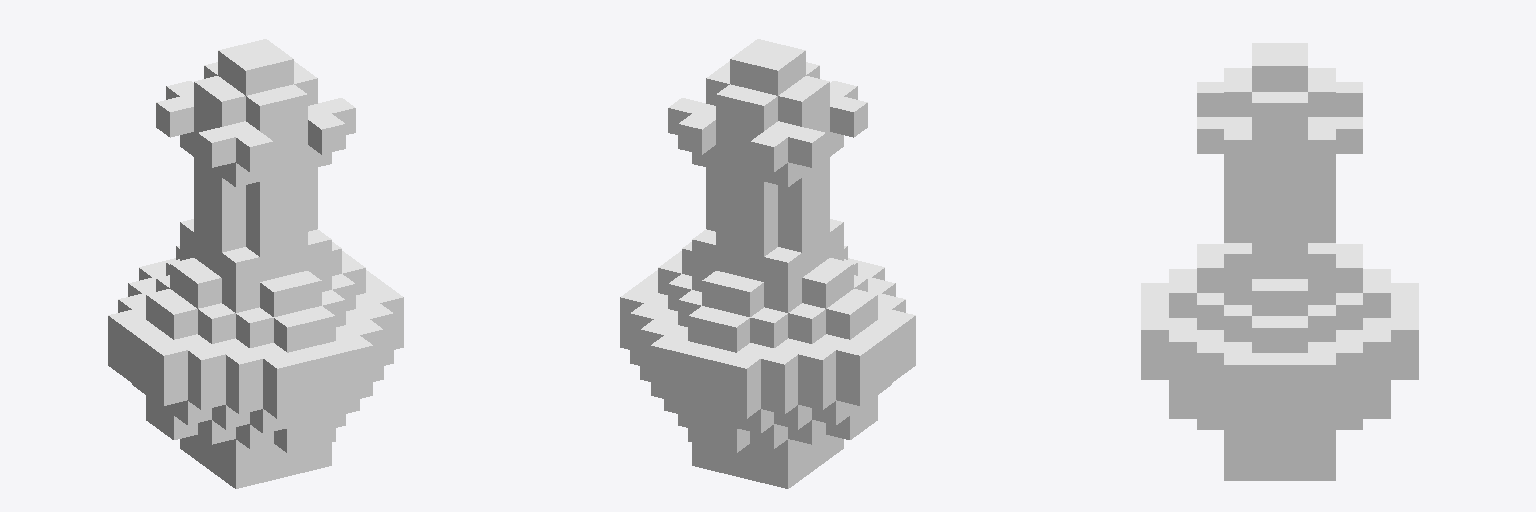
Rendered from sat.obj.
The picture shows the model from 3 angles: view 1: azimuth 30°, elevation 25°; view 2: azimuth 150°, elevation 25°; view 3: azimuth 270°, elevation 25°; orthographic projection.
Size of the model in its own units: 10 by 16 by 10.